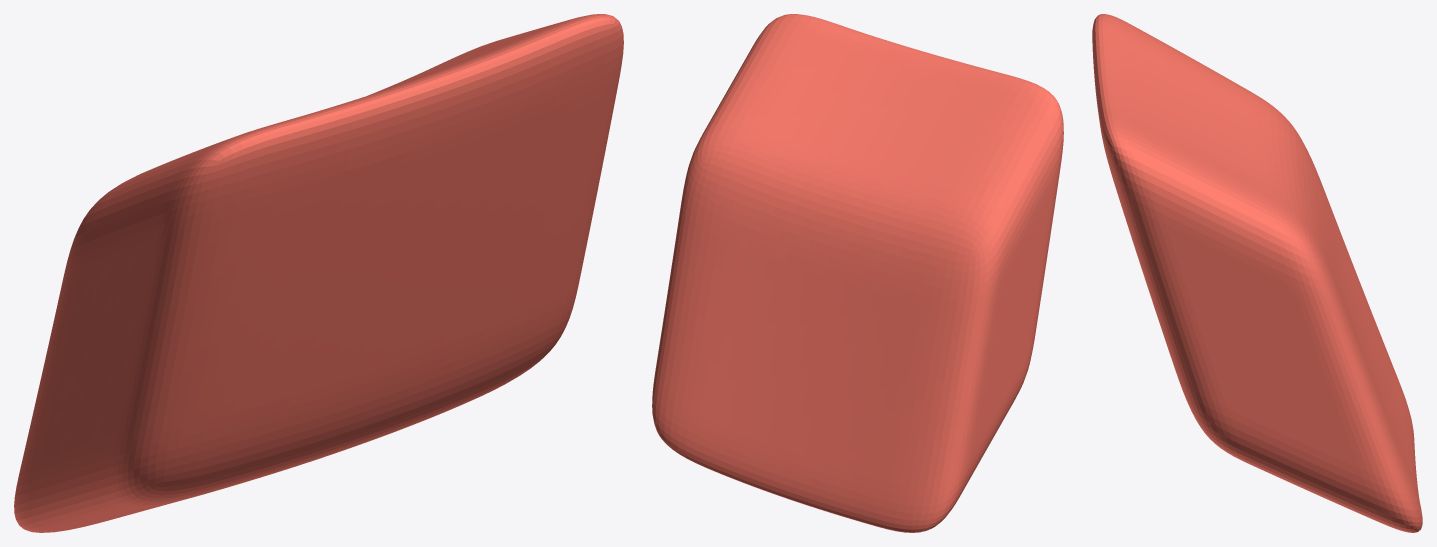
3 renders of one model, left to right at view 1: azimuth 30°, elevation 25°; view 2: azimuth 150°, elevation 25°; view 3: azimuth 270°, elevation 25°, orthographic. The views are drawn at different scales.
Visible parts, largest first — view 1: waves_1.027; view 2: waves_1.027; view 3: waves_1.027.
Boxes of the visible parts, x1,y1,x2,y2 form: waves_1.027: (14, 14, 623, 532); waves_1.027: (652, 14, 1063, 532); waves_1.027: (1092, 14, 1422, 532).
Bounding box in the file's own units: 30.12 × 35.14 × 23.9.
